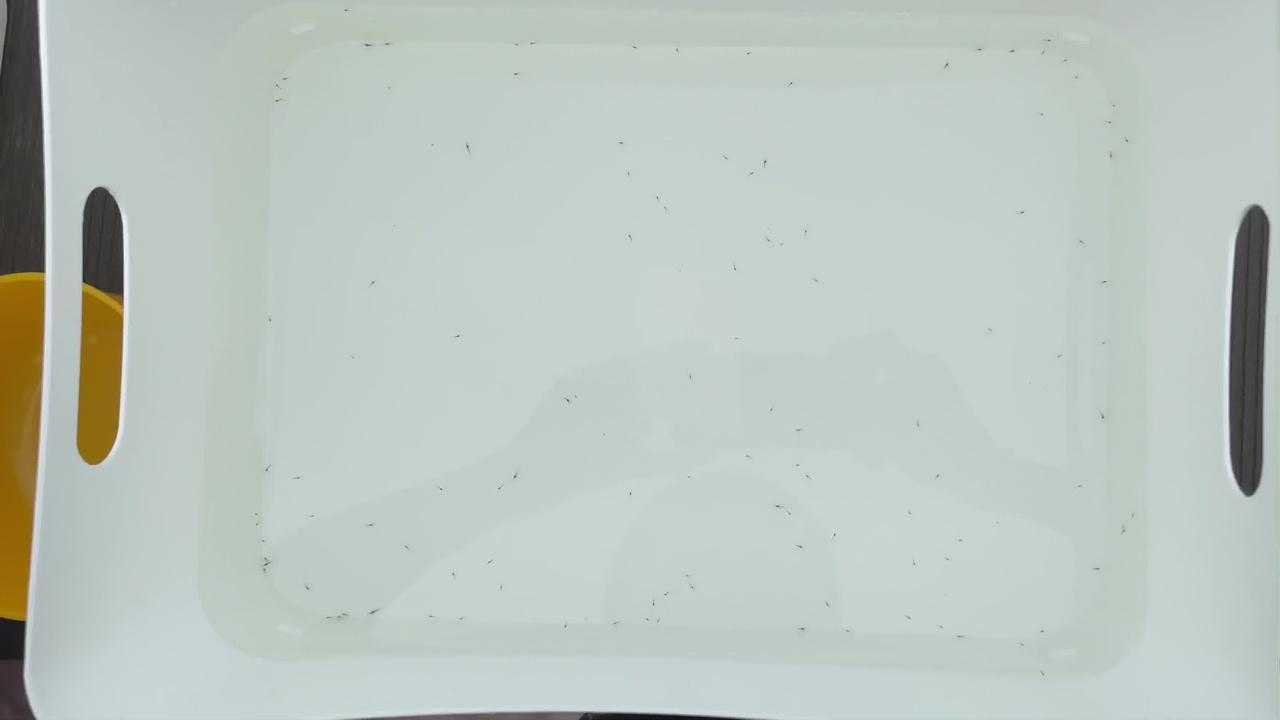shrimp: (943, 62, 955, 70), (975, 46, 987, 54), (1006, 48, 1018, 56), (1036, 50, 1048, 58), (1043, 38, 1055, 46), (1062, 58, 1074, 66), (1070, 74, 1082, 82), (1109, 104, 1121, 112), (1104, 118, 1116, 126), (1122, 137, 1134, 145), (1106, 151, 1118, 159), (1036, 110, 1048, 118), (1018, 208, 1030, 216), (1076, 240, 1088, 248), (1100, 279, 1112, 287), (1098, 340, 1110, 348), (1057, 353, 1069, 361), (986, 328, 998, 336), (1098, 414, 1110, 422), (911, 421, 923, 429), (810, 280, 822, 288), (802, 229, 814, 237), (761, 161, 773, 169), (748, 169, 760, 177), (722, 152, 734, 160), (786, 81, 798, 89), (744, 50, 756, 58), (673, 48, 685, 56), (632, 45, 644, 53), (528, 40, 540, 48), (513, 39, 525, 47), (511, 72, 523, 80), (463, 144, 475, 152), (381, 40, 393, 48), (363, 40, 375, 48), (341, 7, 353, 15), (279, 75, 291, 83), (273, 84, 285, 92), (272, 98, 284, 106), (368, 278, 380, 286), (264, 319, 276, 327), (349, 355, 361, 363), (453, 333, 465, 341), (564, 397, 576, 405), (685, 375, 697, 383), (732, 337, 744, 345), (731, 266, 743, 274), (763, 236, 775, 244), (626, 235, 638, 243), (660, 205, 672, 213), (652, 194, 664, 202), (624, 173, 636, 181), (615, 140, 627, 148), (766, 407, 778, 415), (792, 425, 804, 433), (744, 452, 756, 460), (793, 461, 805, 469), (804, 475, 816, 483), (774, 505, 786, 513), (786, 510, 798, 518), (794, 545, 806, 553), (829, 531, 841, 539), (906, 511, 918, 519), (932, 472, 944, 480), (1073, 482, 1085, 490), (1130, 511, 1142, 519), (1119, 525, 1131, 533), (1091, 566, 1103, 574), (1038, 628, 1050, 636), (1019, 643, 1031, 651), (1037, 672, 1049, 680), (956, 635, 968, 643), (935, 625, 947, 633), (904, 616, 916, 624), (908, 561, 920, 569), (945, 557, 957, 565), (958, 537, 970, 545), (822, 601, 834, 609), (843, 629, 855, 637), (798, 627, 810, 635), (686, 586, 698, 594), (684, 574, 696, 582), (661, 591, 673, 599), (653, 618, 665, 626), (642, 617, 654, 625), (648, 601, 660, 609), (613, 619, 625, 627), (562, 623, 574, 631), (626, 493, 638, 501), (511, 471, 523, 479), (495, 487, 507, 495), (484, 560, 496, 568), (496, 586, 508, 594), (456, 618, 468, 626), (448, 573, 460, 581), (425, 615, 437, 623), (368, 609, 380, 617), (340, 610, 352, 618), (335, 615, 347, 623), (324, 616, 336, 624), (303, 585, 315, 593), (260, 569, 272, 577), (261, 562, 273, 570), (260, 556, 272, 564), (258, 538, 270, 546), (252, 522, 264, 530), (252, 510, 264, 518), (262, 467, 274, 475), (293, 475, 305, 483), (307, 513, 319, 521), (364, 520, 376, 528), (400, 546, 412, 554), (438, 487, 450, 495)
